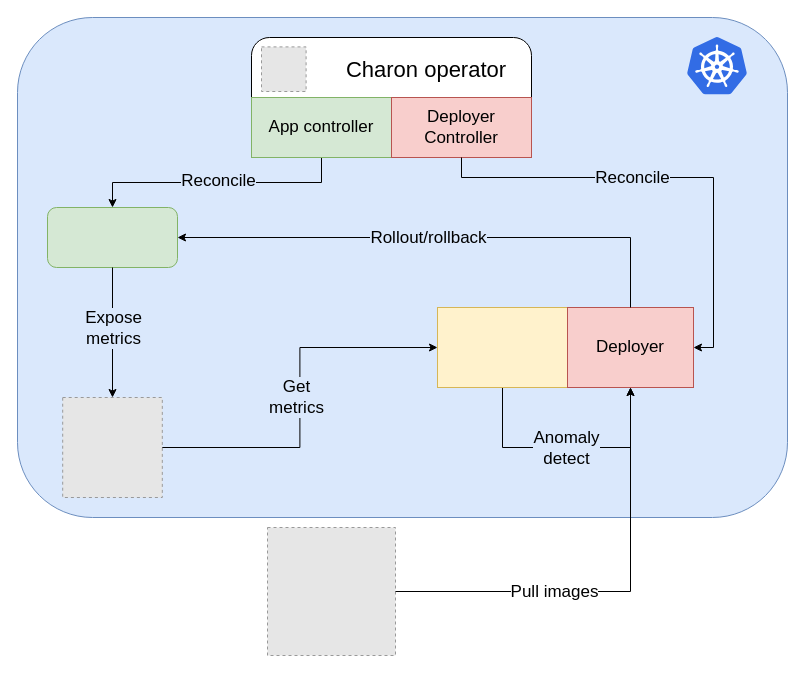
Some shapes in this 805 by 673 pixel diagram are drawn without their labels. Grey dashed boxes stand in for pictures. The centre of each missing label's shape, as x and y in pixels:
"Analyzer" goes at (502,347).
"App" goes at (112,237).
